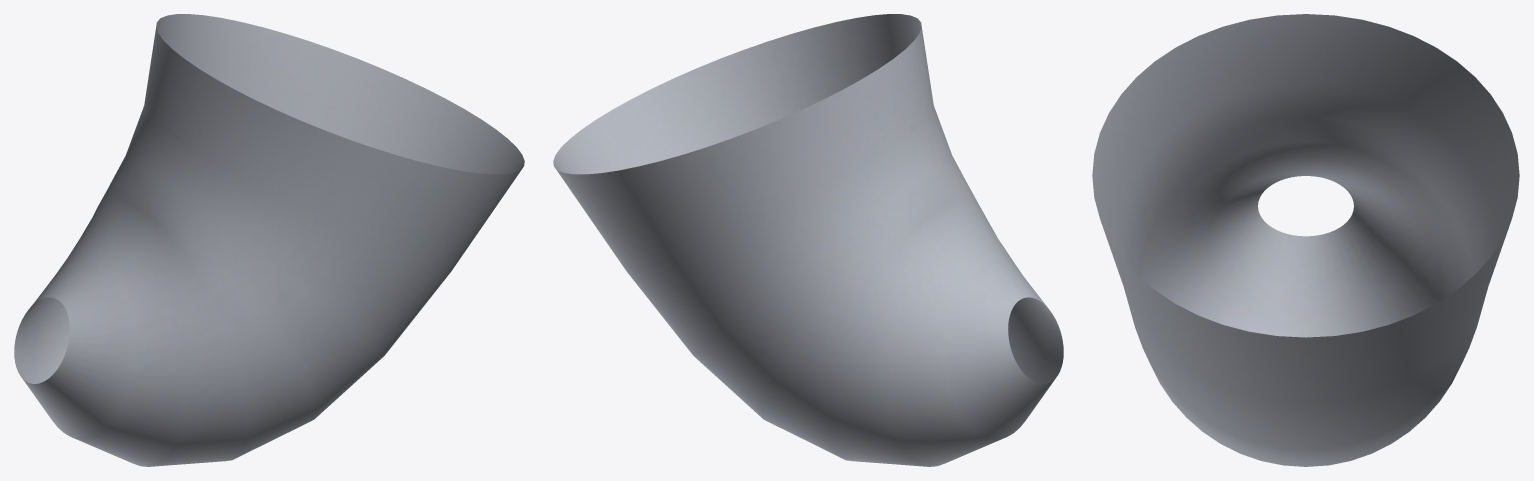
The model's file is Cannon.obj.
3 renders of one model, left to right at view 1: azimuth 30°, elevation 25°; view 2: azimuth 150°, elevation 25°; view 3: azimuth 270°, elevation 25°, orthographic. The views are drawn at different scales.
Visible parts, largest first — view 1: NurbsPath_Mesh; view 2: NurbsPath_Mesh; view 3: NurbsPath_Mesh.
Part boxes in pixels (left/top/right/bottom): NurbsPath_Mesh: left=14, top=14, right=524, bottom=466; NurbsPath_Mesh: left=553, top=14, right=1063, bottom=466; NurbsPath_Mesh: left=1092, top=14, right=1519, bottom=466.
Size of the model in its own units: 22.52 by 18.03 by 16.33.
Materials: 1 (1 with a texture image).
